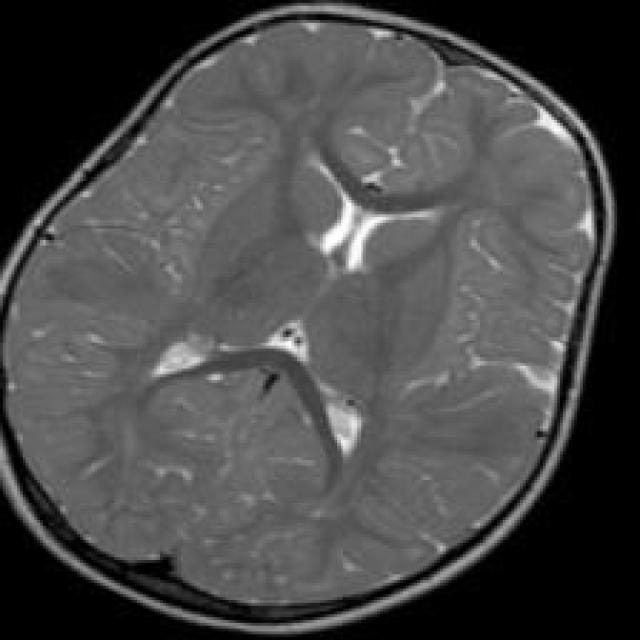no_tumor: (11, 2, 617, 640)
